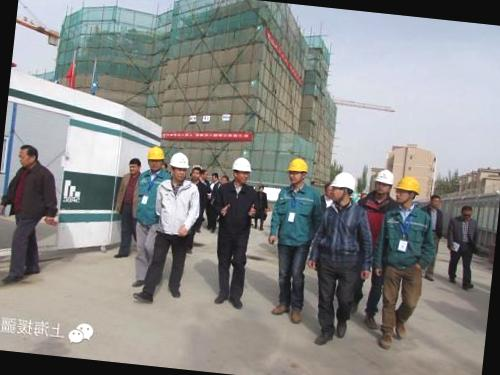no_helmet: (18, 138, 43, 171), (126, 156, 145, 179), (458, 201, 477, 223), (430, 193, 444, 210)
